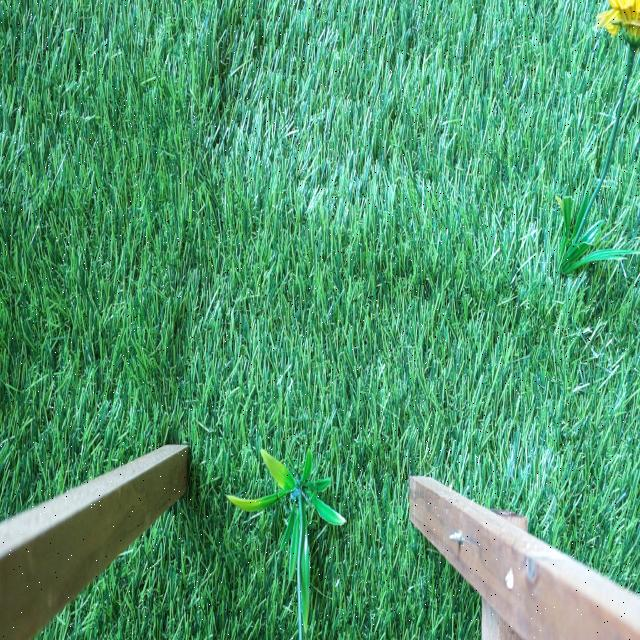base: (228, 448, 344, 632), (558, 188, 640, 278)
flower: (598, 0, 640, 56)
